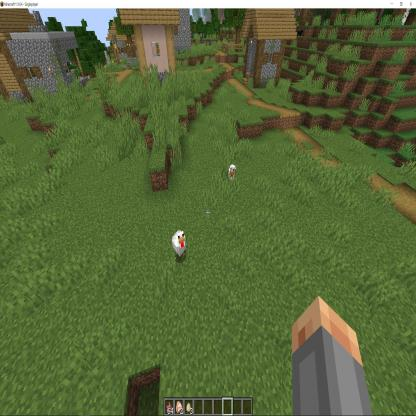minecraft-pigs: (171, 228, 189, 261), (227, 162, 237, 188)
